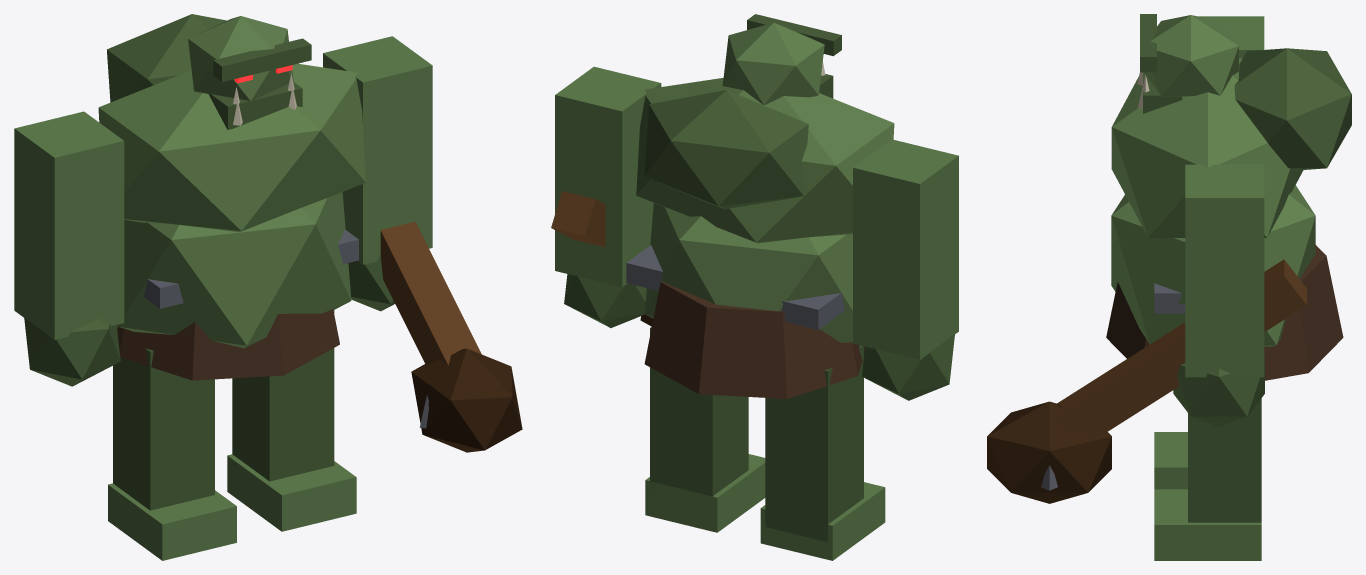
Rendered from brute.glb.
3 renders of one model, left to right at view 1: azimuth 30°, elevation 25°; view 2: azimuth 150°, elevation 25°; view 3: azimuth 270°, elevation 25°, orthographic. The views are drawn at different scales.
Parts seen in each view (by area): view 1: chest, belly, armL_m, armR_m, legL_m, legR_m, loin, club_head, club, legR_f, legL_f, skull (+6 smaller); view 2: armL_m, loin, armR_m, chest, hump, belly, legL_m, legR_m, skull, legR_f, legL_f, armL_h (+4 smaller); view 3: armR_m, chest, hump, belly, club, club_head, legR_m, loin, skull, legR_f, armR_h, legL_f (+4 smaller).
Part boxes in pixels (<box>): chest: <box>98,63,365,232</box>; belly: <box>118,192,351,348</box>; armL_m: <box>14,111,124,339</box>; armR_m: <box>323,36,432,264</box>; legL_m: <box>113,325,214,510</box>; legR_m: <box>232,310,334,481</box>; loin: <box>117,309,339,380</box>; club_head: <box>411,348,522,452</box>; club: <box>380,221,481,365</box>; legR_f: <box>227,454,356,531</box>; legL_f: <box>108,483,236,560</box>; skull: <box>188,16,293,100</box>; armL_m: <box>853,139,958,359</box>; loin: <box>644,281,864,398</box>; armR_m: <box>555,66,661,287</box>; chest: <box>636,78,894,243</box>; hump: <box>644,90,808,209</box>; belly: <box>644,203,852,342</box>; legL_m: <box>765,345,863,541</box>; legR_m: <box>650,327,748,499</box>; skull: <box>722,22,824,104</box>; legR_f: <box>645,454,765,532</box>; legL_f: <box>760,482,885,560</box>; armL_h: <box>862,334,954,400</box>; armR_m: <box>1185,164,1264,377</box>; chest: <box>1111,58,1303,237</box>; hump: <box>1234,48,1351,170</box>; belly: <box>1111,185,1315,346</box>; club: <box>1054,259,1306,436</box>; club_head: <box>987,401,1111,503</box>; legR_m: <box>1188,398,1261,522</box>; loin: <box>1106,245,1343,380</box>; skull: <box>1144,15,1238,96</box>; legR_f: <box>1154,489,1261,560</box>; armR_h: <box>1173,363,1264,426</box>; legL_f: <box>1154,432,1187,489</box>.
Bounding box in the file's own units: 1.6 × 1.95 × 1.29.
